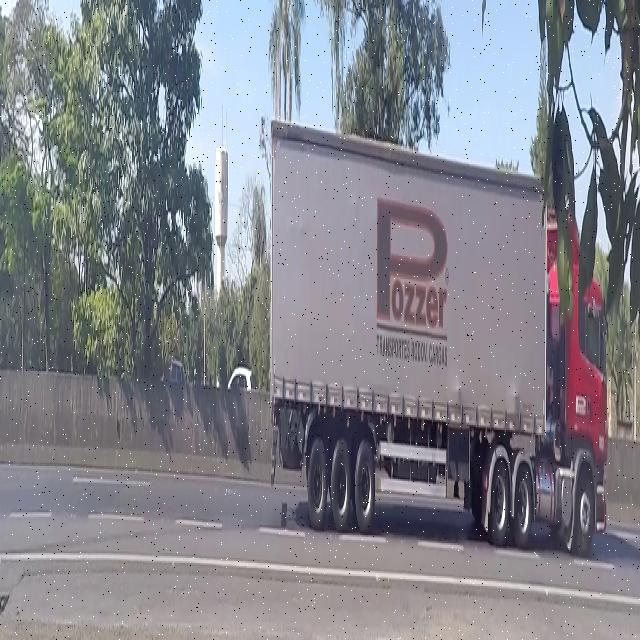-axle: (353, 436, 377, 542), (510, 452, 533, 554), (306, 436, 328, 530), (330, 436, 350, 539), (489, 448, 508, 556), (576, 469, 597, 555)
